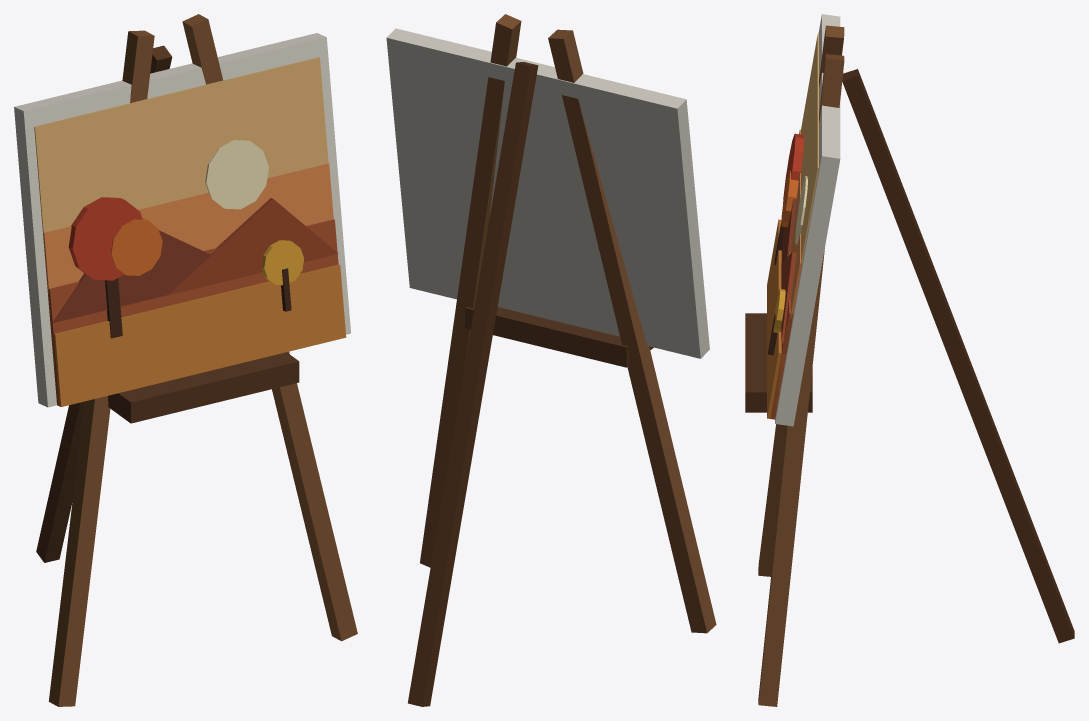
Rendered from c-easel-autumn.glb.
The picture shows the model from 3 angles, left to right: view 1: azimuth 30°, elevation 25°; view 2: azimuth 150°, elevation 25°; view 3: azimuth 270°, elevation 25°; orthographic projection. The views are drawn at different scales.
Visible parts, largest first — view 1: c-easel-autumn; view 2: c-easel-autumn; view 3: c-easel-autumn.
Boxes of the visible parts, bbox=[...] form: c-easel-autumn: bbox=[14, 14, 357, 706]; c-easel-autumn: bbox=[386, 14, 716, 706]; c-easel-autumn: bbox=[745, 14, 1074, 706].
Bounding box in the file's own units: 0.45 × 0.8823 × 0.4406.
